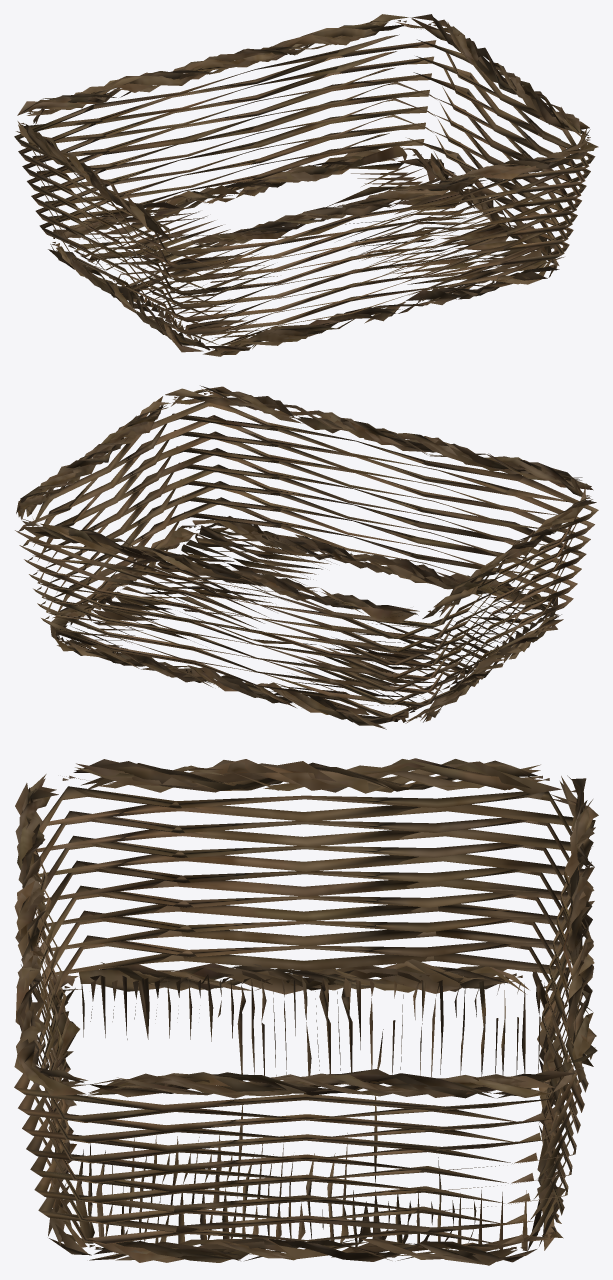
The model's file is basket.glb.
3 renders of one model, top to bottom at view 1: azimuth 30°, elevation 25°; view 2: azimuth 150°, elevation 25°; view 3: azimuth 270°, elevation 25°, orthographic. The views are drawn at different scales.
Visible parts, largest first — view 1: wicker_basket_01; view 2: wicker_basket_01; view 3: wicker_basket_01.
Boxes of the visible parts, box(x1,y1,x2,y2) form: wicker_basket_01: box(14, 14, 598, 356); wicker_basket_01: box(15, 385, 598, 729); wicker_basket_01: box(14, 758, 598, 1265).
Bounding box in the file's own units: 0.383 × 0.1185 × 0.2933.
1 material, 1 textured.
